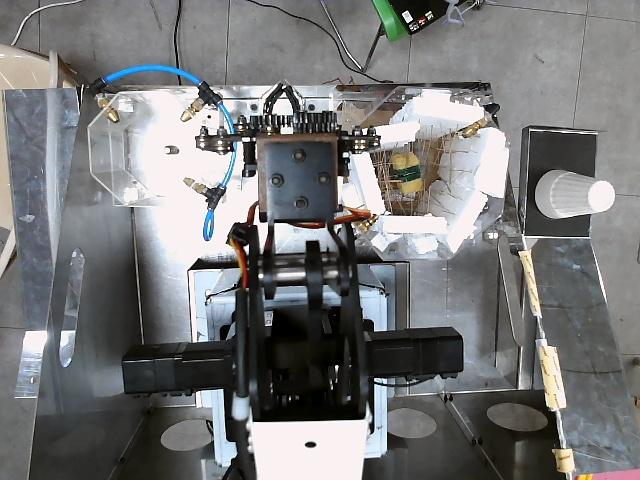cup: (535, 170, 614, 218)
